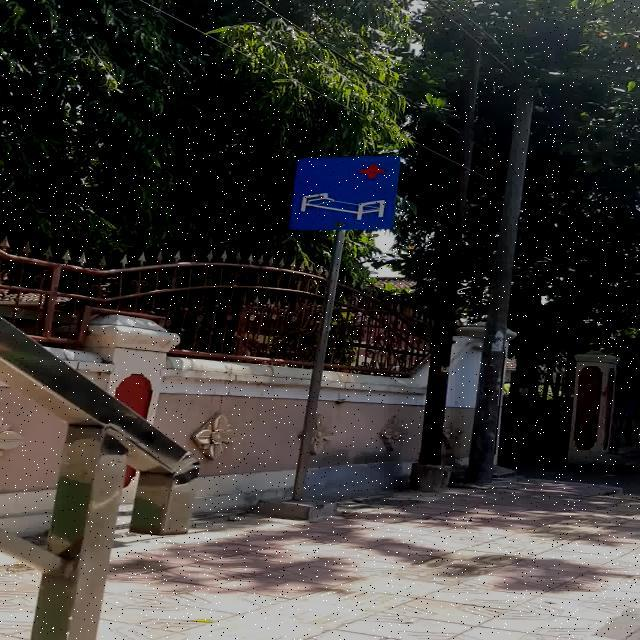Rumah Sakit: (289, 156, 399, 230)
